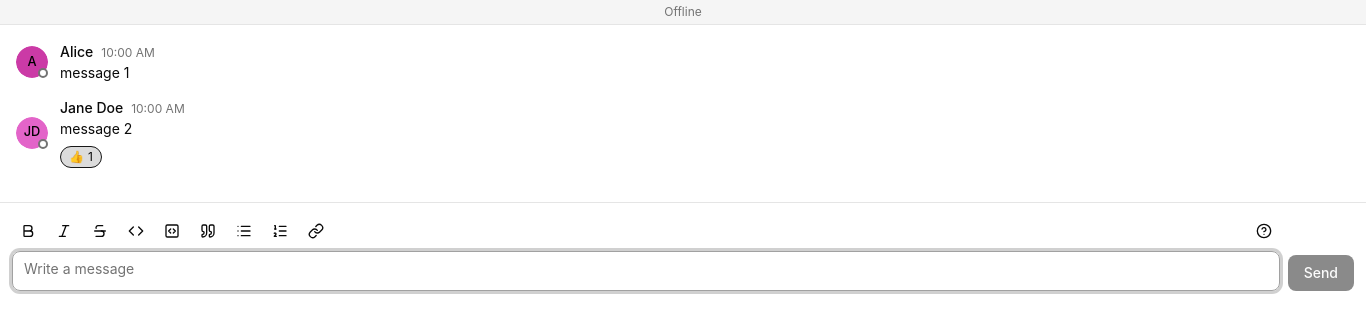
Test: drops the chip when the last reactor leaves
The width and height of the screenshot is (1366, 311).
Click the button "👍 1" at (81,157), box [60,146,102,168]
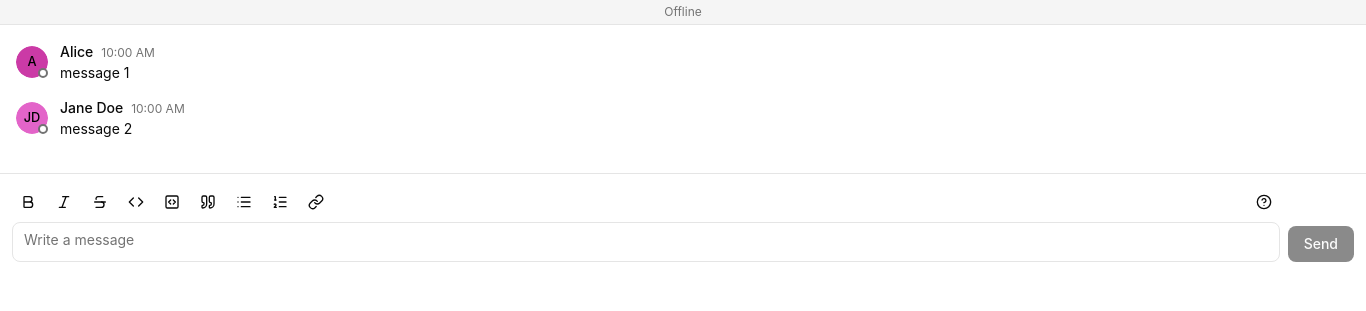
Check: the button "👍" is gone
